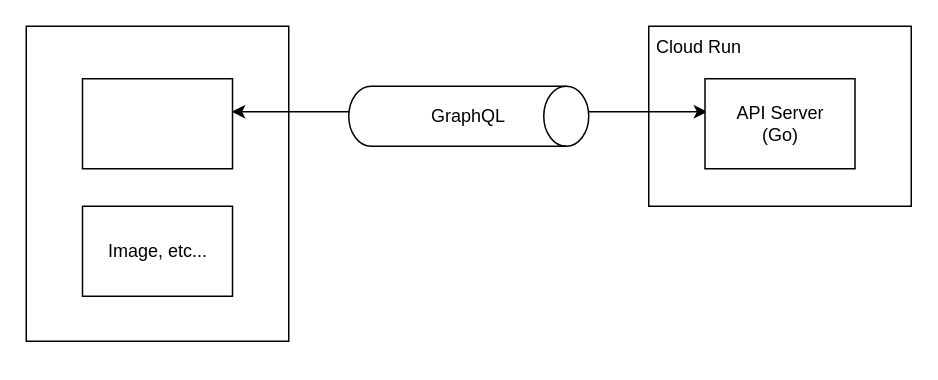
Image size: 938x380. Some labels were removed from this diagram. The box of each missing label's shape, as (x1, y1, x2, y2) in pixels:
GitHub Pages: (25, 25, 289, 341)
SPA (React): (81, 77, 232, 169)
